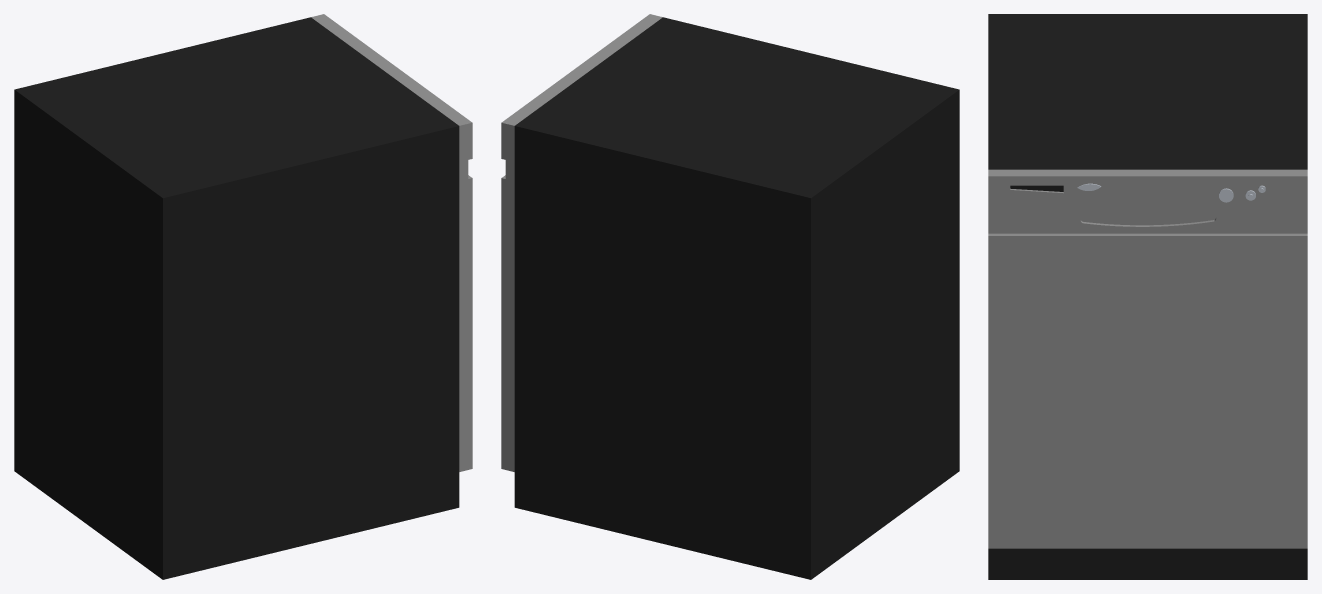
The model's file is dishwasher.dae.
The picture shows the model from 3 angles, left to right: view 1: azimuth 30°, elevation 25°; view 2: azimuth 150°, elevation 25°; view 3: azimuth 270°, elevation 25°; orthographic projection. The views are drawn at different scales.
Parts seen in each view (by area): view 1: skp3AAF (×2); view 2: skp3AAF (×2); view 3: skp3AAF (×3).
Part boxes in pixels (<box>): skp3AAF (×2): <box>14,14,472,579</box>; skp3AAF (×2): <box>501,14,959,579</box>; skp3AAF (×3): <box>988,14,1307,579</box>.
Bounding box in the file's own units: 28.82 × 23.74 × 33.67.
Materials: 4 (4 with a texture image).
